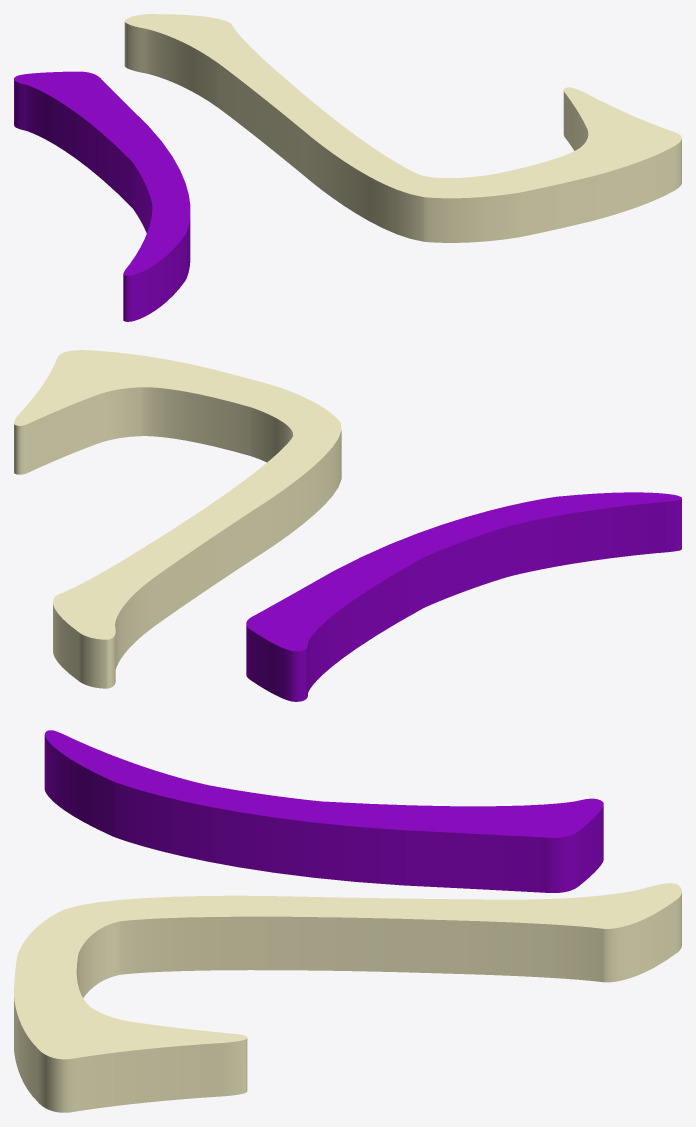
The model's file is hanzi43.fbx.
3 renders of one model, top to bottom at view 1: azimuth 30°, elevation 25°; view 2: azimuth 150°, elevation 25°; view 3: azimuth 270°, elevation 25°, orthographic. The views are drawn at different scales.
Visible parts, largest first — view 1: Curve.001, Curve; view 2: Curve.001, Curve; view 3: Curve.001, Curve.
Boxes of the visible parts, left/top/right/bottom form: Curve.001: left=124, top=14, right=681, bottom=242; Curve: left=14, top=71, right=190, bottom=321; Curve.001: left=14, top=350, right=341, bottom=688; Curve: left=246, top=492, right=681, bottom=701; Curve.001: left=14, top=883, right=681, bottom=1112; Curve: left=44, top=730, right=603, bottom=892.
Size of the model in its own units: 24.19 by 20.81 by 1.9.
